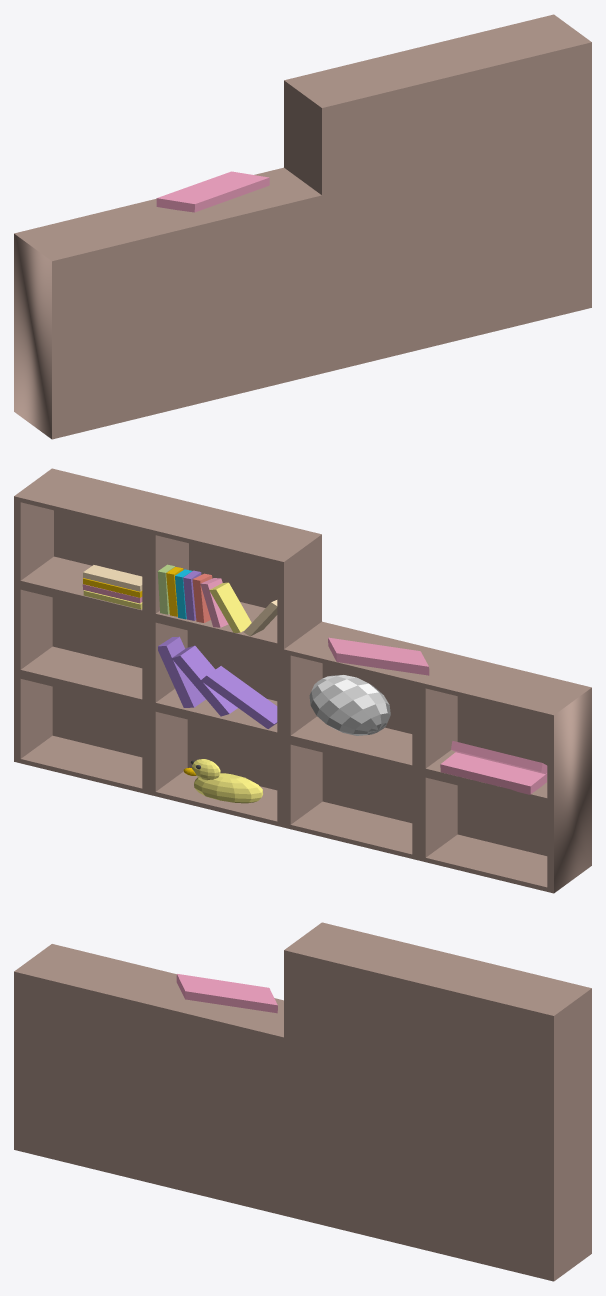
Rendered from bookshelf01.gltf.
3 renders of one model, top to bottom at view 1: azimuth 30°, elevation 25°; view 2: azimuth 150°, elevation 25°; view 3: azimuth 330°, elevation 25°, orthographic.
Parts seen in each view (by area): view 1: group1329329239, group159381947; view 2: group1329329239, group1602327308, group258849837, group159381947, group1066987434, group287812142, group285218960, group2577447, group1245885350, group1429174951, group589443044, group1792446406 (+1 smaller); view 3: group1329329239, group159381947.
Part boxes in pixels (x1,y1,x2,y2): group1329329239: (14,14,591,439); group159381947: (156,171,269,212); group1329329239: (14,468,591,893); group1602327308: (309,675,390,735); group258849837: (440,752,546,794); group159381947: (328,637,429,675); group1066987434: (183,759,262,803); group287812142: (200,666,277,728); group285218960: (171,645,237,716); group2577447: (158,636,205,707); group1245885350: (209,582,251,632); group1429174951: (451,741,547,776); group589443044: (83,565,142,591); group1792446406: (200,578,228,627); group1329329239: (14,922,591,1281); group159381947: (176,974,277,1013).
Size of the model in its own units: 1.87 by 0.8824 by 0.2308.
